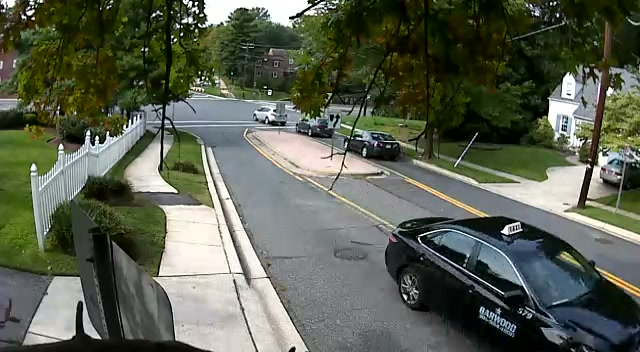car: (383, 215, 640, 352), (343, 130, 402, 160), (600, 150, 640, 189), (296, 118, 335, 137), (252, 106, 287, 125)
truck: (252, 106, 287, 125)
